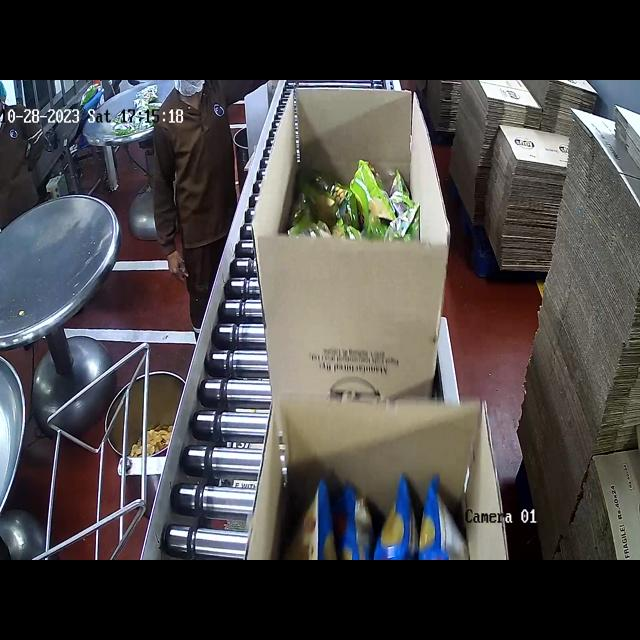paprika: (303, 453, 496, 560)
yogurt: (295, 159, 409, 243)
